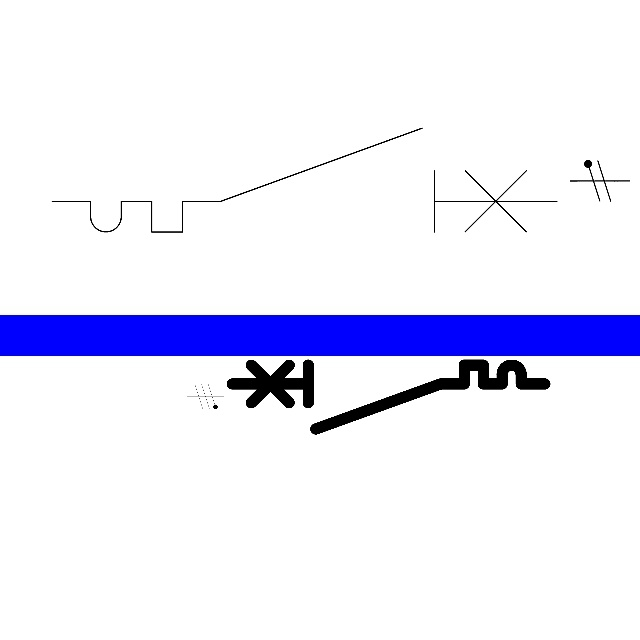interruptor_termomagnetico: (39, 115, 570, 245), (224, 357, 552, 437)
